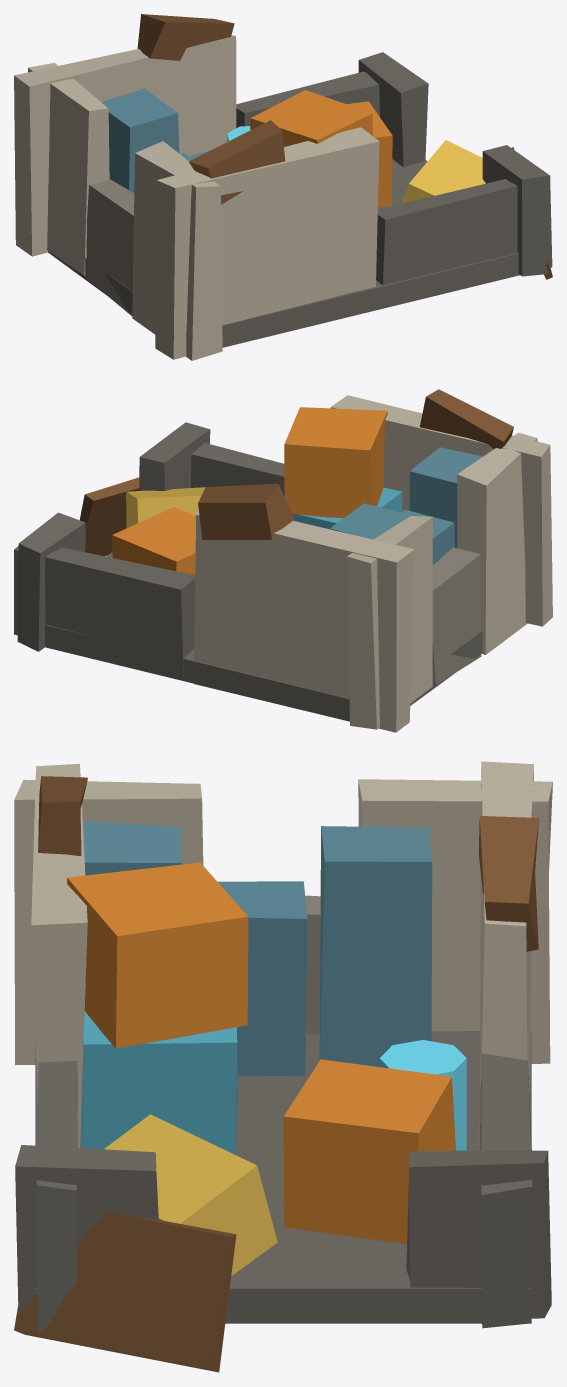
File: hull_bay.glb
3 renders of one model, top to bottom at view 1: azimuth 30°, elevation 25°; view 2: azimuth 150°, elevation 25°; view 3: azimuth 270°, elevation 25°, orthographic. The views are drawn at different scales.
Visible parts, largest first — view 1: hull_bay; view 2: hull_bay; view 3: hull_bay.
Boxes of the visible parts, x1,y1,x2,y2 form: hull_bay: (14, 14, 552, 360); hull_bay: (14, 389, 552, 732); hull_bay: (14, 761, 552, 1372).
Bounding box in the file's own units: 5.02 × 2.39 × 3.47.
